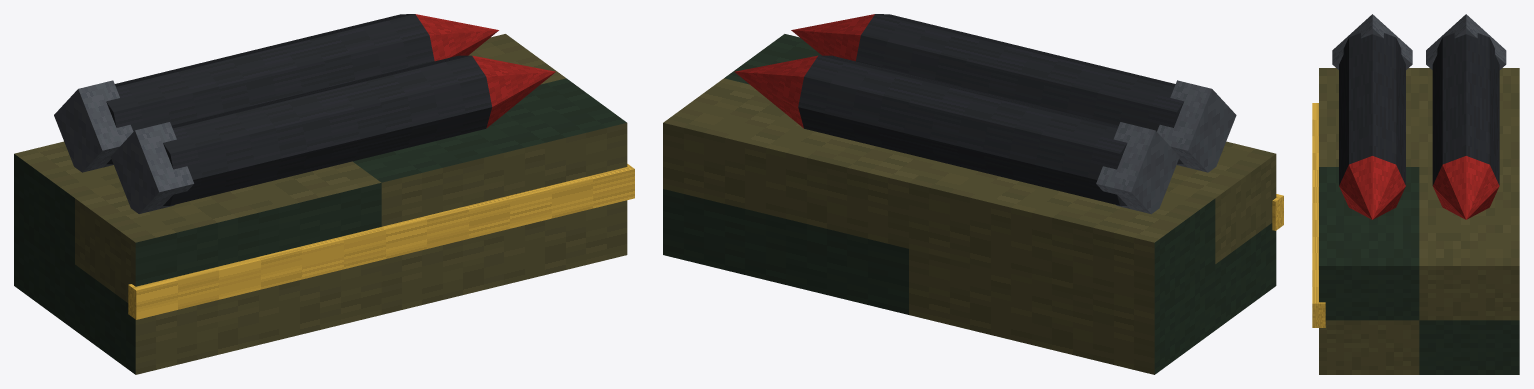
Rendered from pickup_ammo_rockets.glb.
The picture shows the model from 3 angles, left to right: view 1: azimuth 30°, elevation 25°; view 2: azimuth 150°, elevation 25°; view 3: azimuth 270°, elevation 25°; orthographic projection. The views are drawn at different scales.
Parts seen in each view (by area): view 1: pickup_ammo_rockets; view 2: pickup_ammo_rockets; view 3: pickup_ammo_rockets.
Part boxes in pixels (x1,y1,x2,y2): pickup_ammo_rockets: (14,14,634,374); pickup_ammo_rockets: (663,14,1283,374); pickup_ammo_rockets: (1312,14,1519,374).
Size of the model in its own units: 0.71 by 0.29 by 0.31.
Materials: 1 (1 with a texture image).
